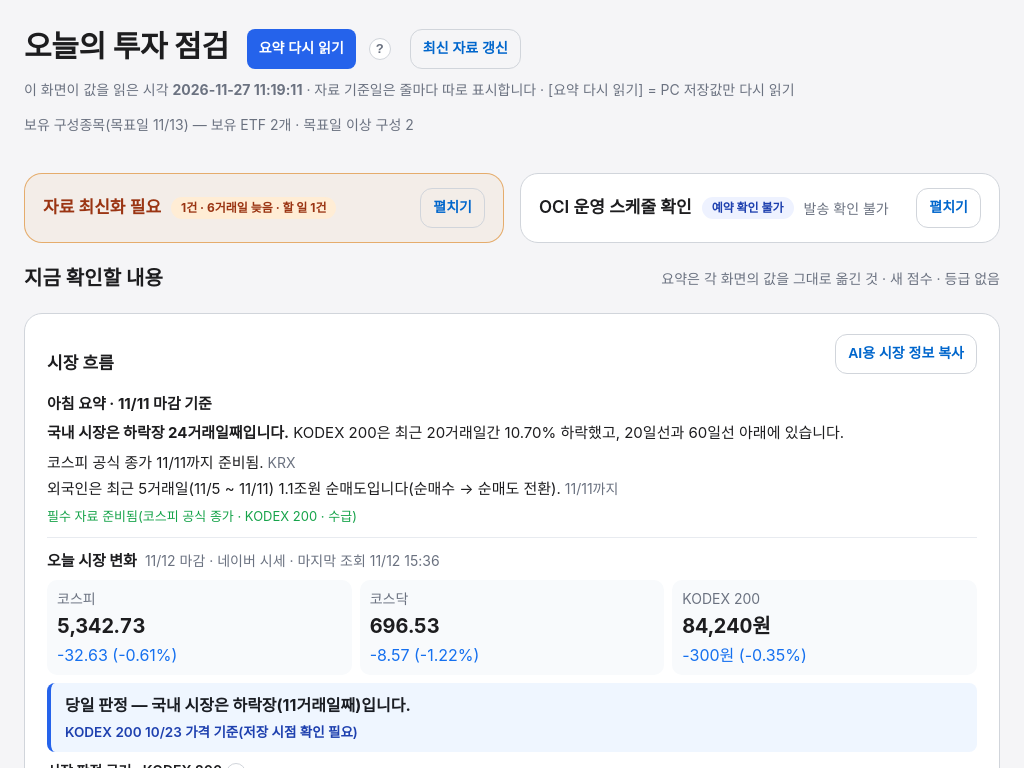
it: POC6-16 · POC6-27 지금 확인할 내용 › 판정 Q3 — 늦은 자료가 있으면 고르기 전에는 반영 안 함 · [취소] = 화면 · 공유 캐시 · 읽은 시각 그대로
Expected: the element with test id "tc-now-regime" is shown, 47,683 -> 977,752
Click the button "요약 다시 읽기": (301, 48) 247,28 -> 356,68
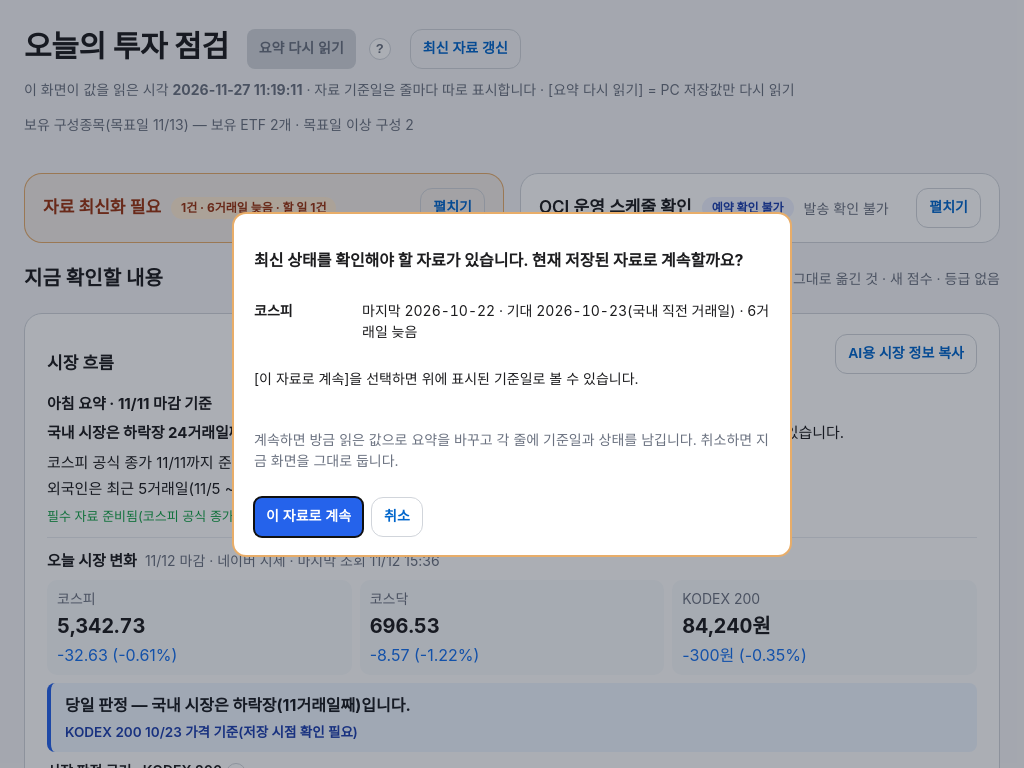
Now the dialog with test id "tc-stale-dialog" shows "최신 상태를 확인해야 할 자료가 있습니다. 현재 저장된 자료로 계속할까요?", box 254,250 -> 744,270
Now the list item "코스피 마지막 2026-10-22 · 기대 2026-10-23(국내 직전 거래일) · 6거래일 늦음" is shown, box 254,300 -> 770,342
Now the text with test id "tc-stale-continue-note" reads "[이 자료로 계속]을 선택하면 위에 표시된 기준일로 볼 수 있습니다.", box 254,370 -> 639,386
Click the button "취소": (397, 516) 371,496 -> 423,536
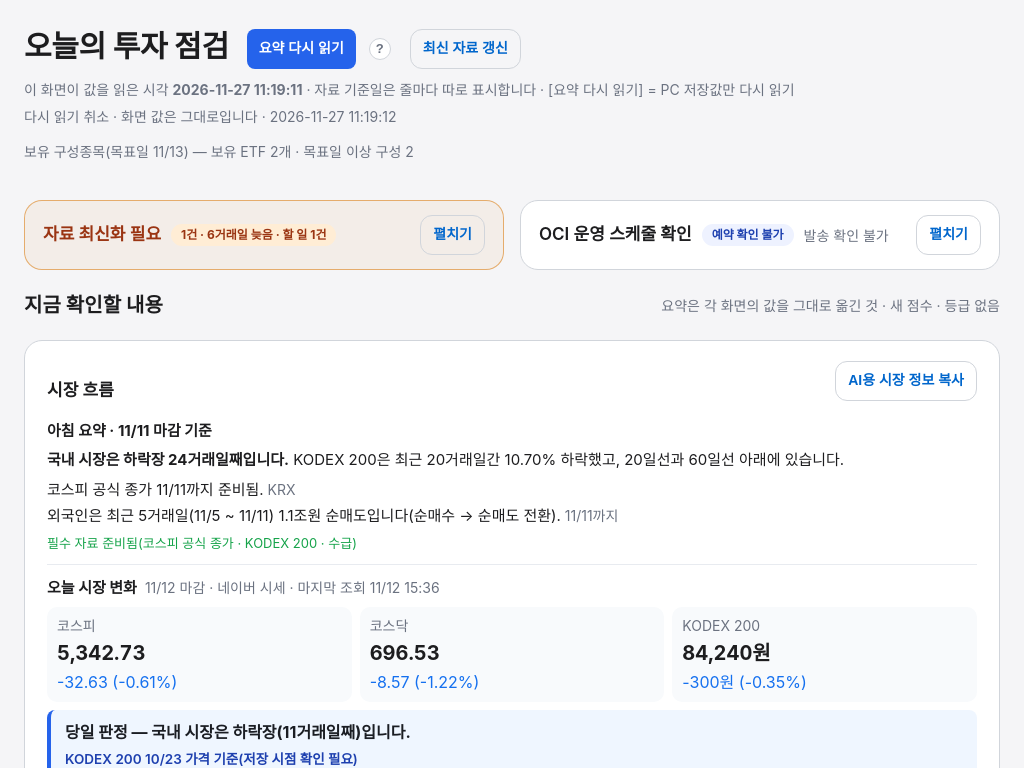
Now the dialog with test id "tc-stale-dialog" is gone
Now the text with test id "tc-reload-state" shows "다시 읽기 취소 · 화면 값은 그대로입니다", box 24,108 -> 396,125
Now the button "최신 자료 갱신" is enabled, box 410,28 -> 521,68
